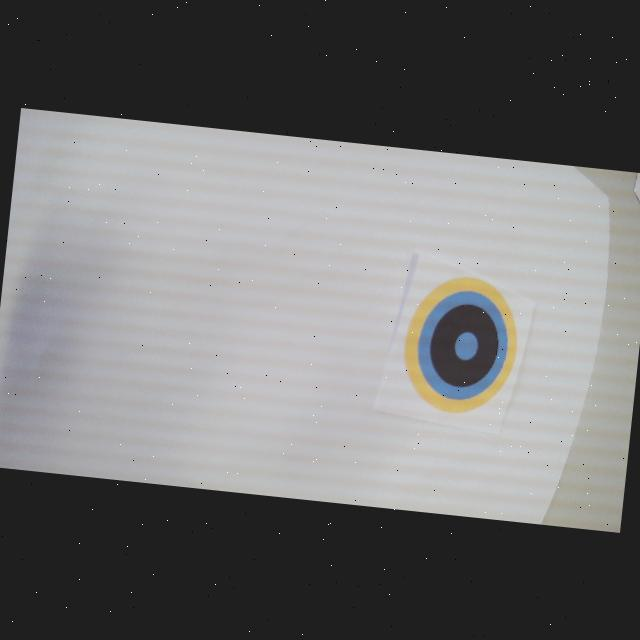COGNITIVE: (398, 269, 523, 419)
